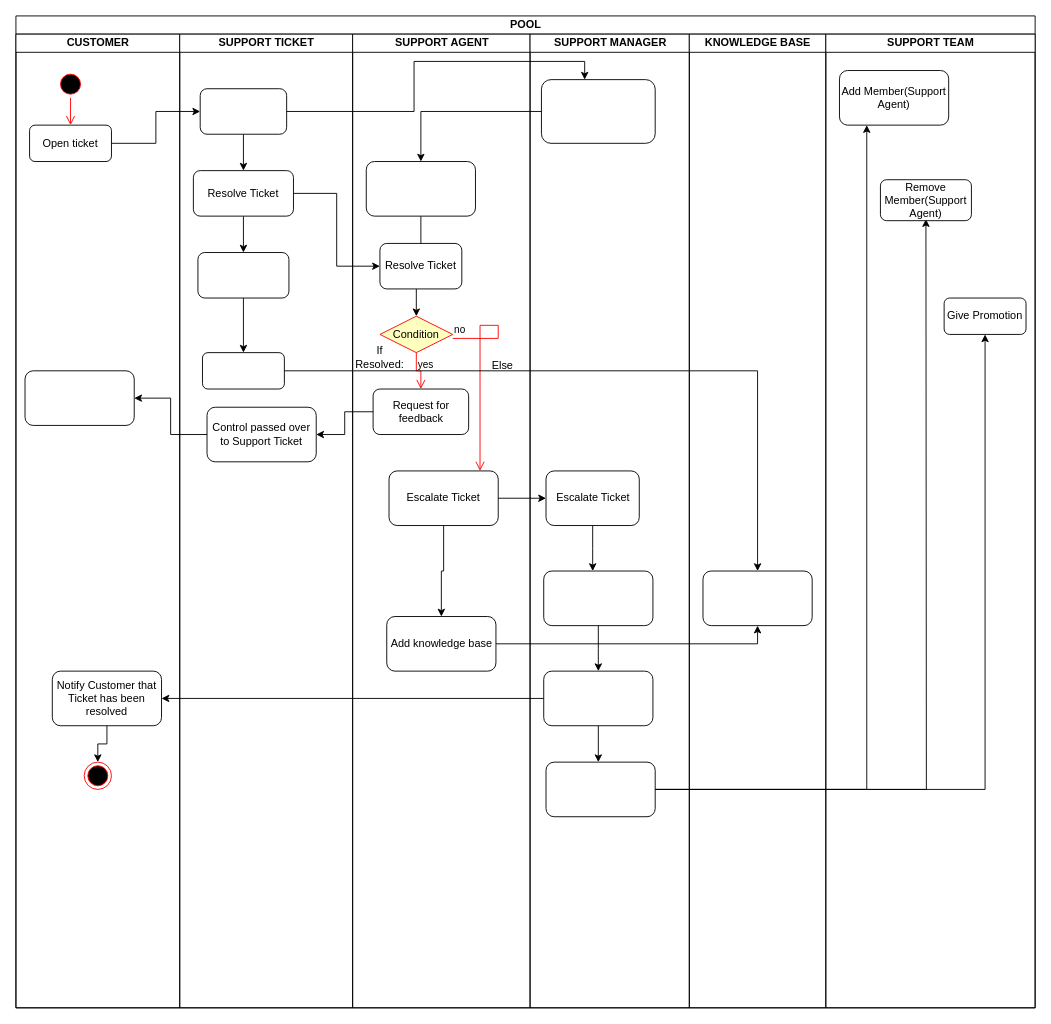
This 1051x1024 diagram has some shape labels left out. Here are the shapes that lost their labels. From the top down, the centre of each, then its label:
At pixel 243 111: "Assign Agent(Support Agent)".
At pixel 598 111: "Assign Agent(Support Agent,Support ticket)".
At pixel 420 188: "Support Agent assigned to Support ticket".
At pixel 243 275: "Update Ticket Status".
At pixel 243 370: "Add notes".
At pixel 79 397: "Provide feedback".
At pixel 598 598: "Escalate ticket to a more appropriate team".
At pixel 757 598: "Update Knowledge base".
At pixel 598 698: "Resolved Ticket after escalation".
At pixel 600 789: "Review feedback".
